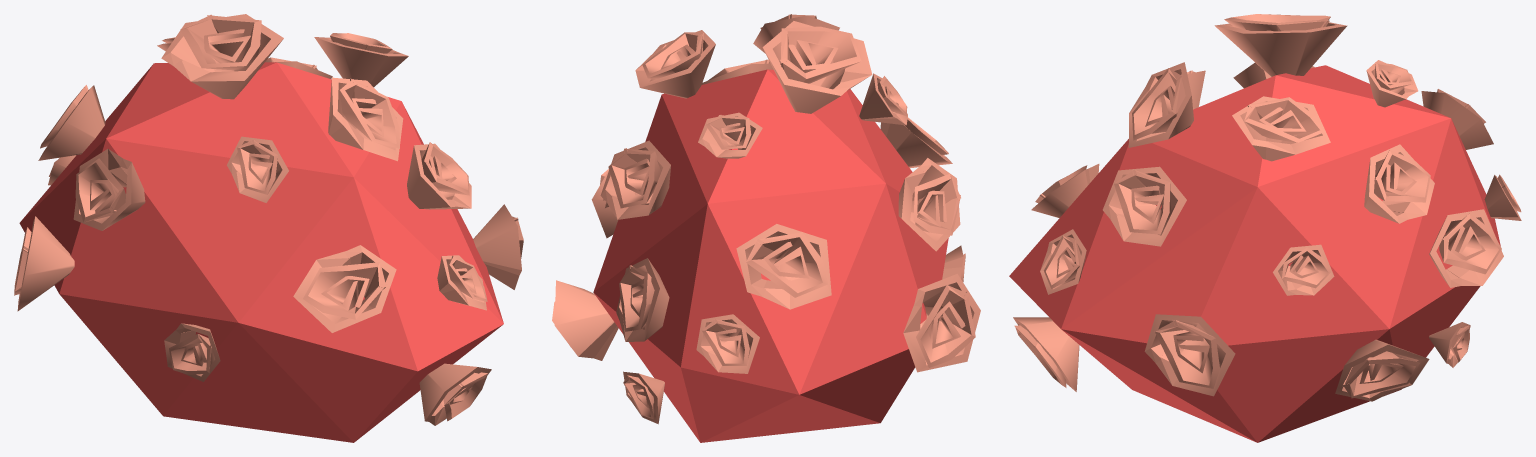
File: Roses_.FBX
3 views of the same model, side by side, from view 1: azimuth 30°, elevation 25°; view 2: azimuth 150°, elevation 25°; view 3: azimuth 270°, elevation 25° (orthographic). The views are drawn at different scales.
Visible parts, largest first — view 1: GeoSphere002, Box001, Box014, Box012, Box015, Box009, Box017, Box019, Box004, Box013, Box002, Box010 (+2 smaller); view 2: GeoSphere002, Box001, Box002, Box017, Box006, Box015, Box004, Box020, Box008, Box007, Box003, Box014 (+6 smaller); view 3: GeoSphere002, Box001, Box010, Box009, Box004, Box008, Box006, Box012, Box020, Box019, Box005, Box011 (+6 smaller).
Part boxes in pixels (x1,y1,x2,y2): GeoSphere002: [19, 62, 503, 442]; Box001: [161, 14, 283, 99]; Box014: [293, 245, 396, 332]; Box012: [328, 77, 403, 161]; Box015: [73, 149, 145, 230]; Box009: [407, 142, 471, 209]; Box017: [14, 216, 74, 311]; Box019: [419, 363, 491, 425]; Box004: [314, 33, 408, 87]; Box013: [227, 136, 288, 202]; Box002: [38, 85, 105, 160]; Box010: [473, 204, 523, 289]; GeoSphere002: [593, 69, 948, 442]; Box001: [762, 21, 872, 113]; Box002: [736, 224, 831, 309]; Box017: [903, 273, 980, 372]; Box006: [600, 140, 670, 219]; Box015: [898, 158, 960, 251]; Box004: [635, 30, 715, 98]; Box020: [552, 280, 618, 360]; Box008: [616, 258, 669, 341]; Box007: [696, 314, 759, 373]; Box003: [698, 112, 762, 158]; Box014: [880, 117, 952, 168]; GeoSphere002: [1009, 65, 1500, 442]; Box001: [1214, 14, 1347, 76]; Box010: [1144, 314, 1235, 396]; Box009: [1102, 166, 1186, 246]; Box004: [1232, 96, 1330, 161]; Box008: [1429, 209, 1503, 287]; Box006: [1364, 144, 1434, 223]; Box012: [1128, 62, 1193, 147]; Box020: [1335, 339, 1429, 401]; Box019: [1013, 317, 1079, 391]; Box005: [1273, 244, 1334, 295]; Box011: [1040, 229, 1086, 294].
Size of the model in its own units: 74.02 by 62.23 by 78.78.
